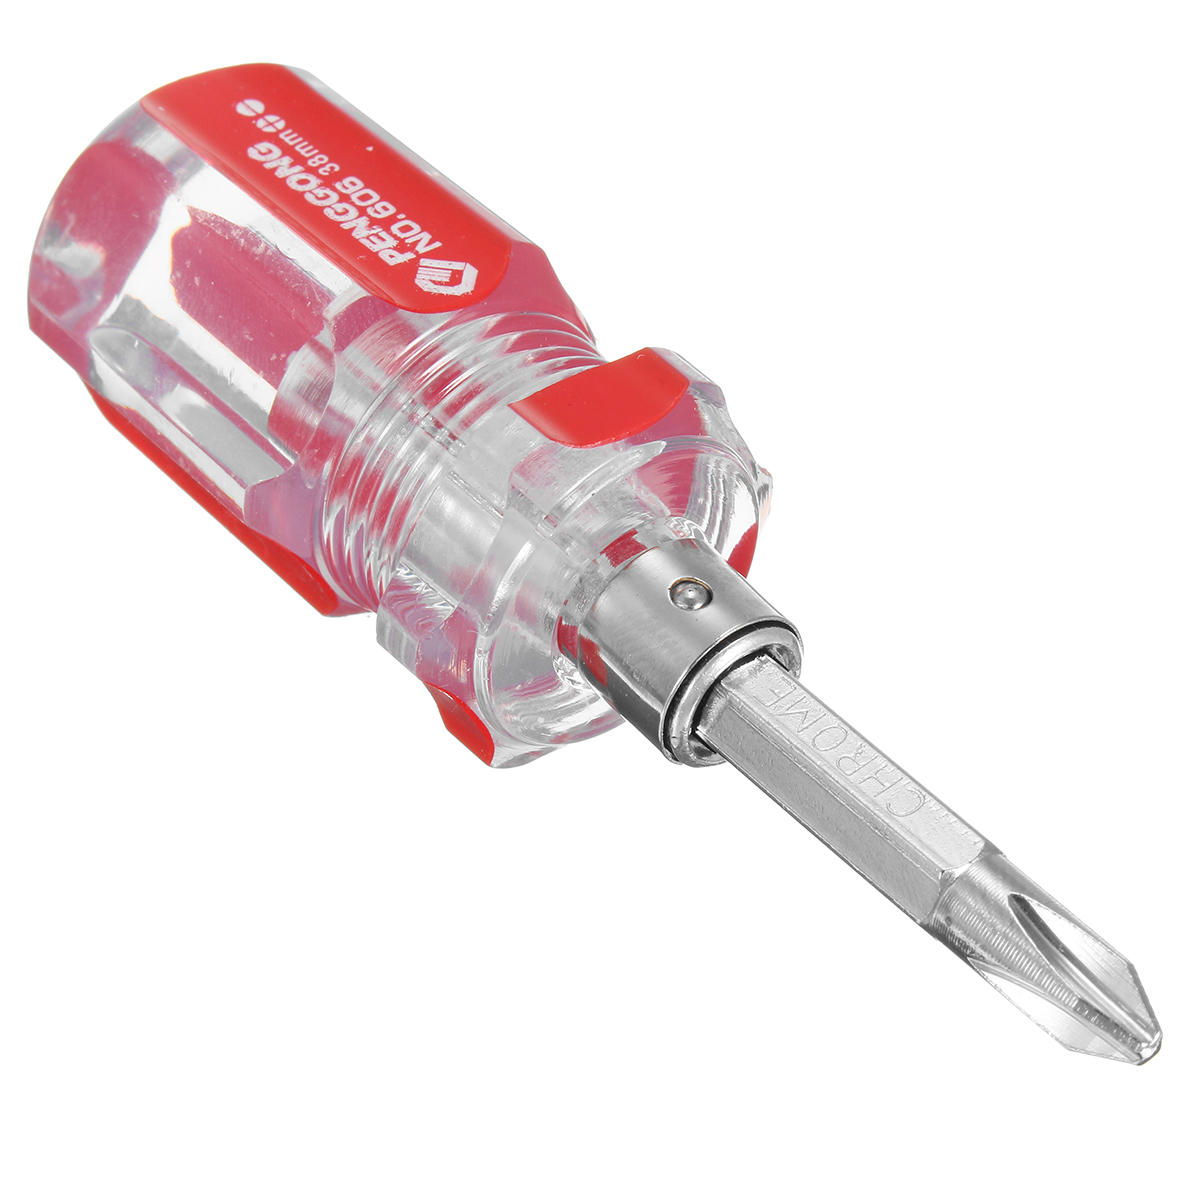screwdriver: (24, 58, 1171, 1084)
